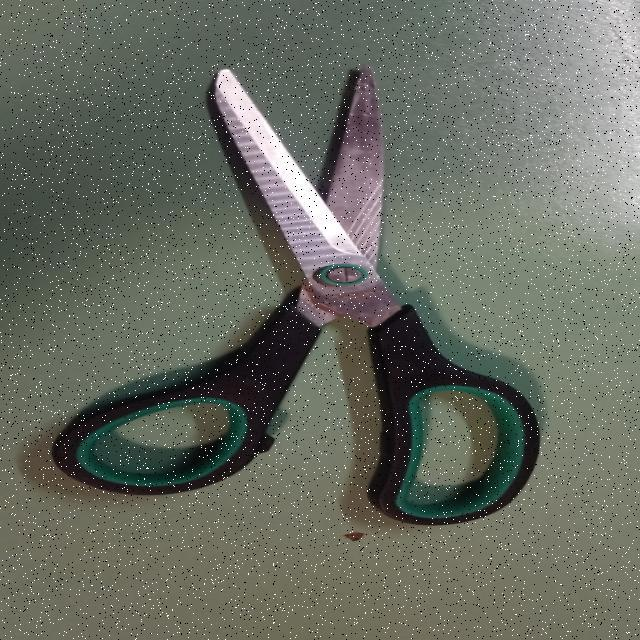scissors: (19, 61, 571, 532)
